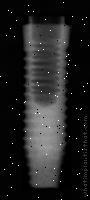Biomet 3i: (20, 15, 71, 190)
